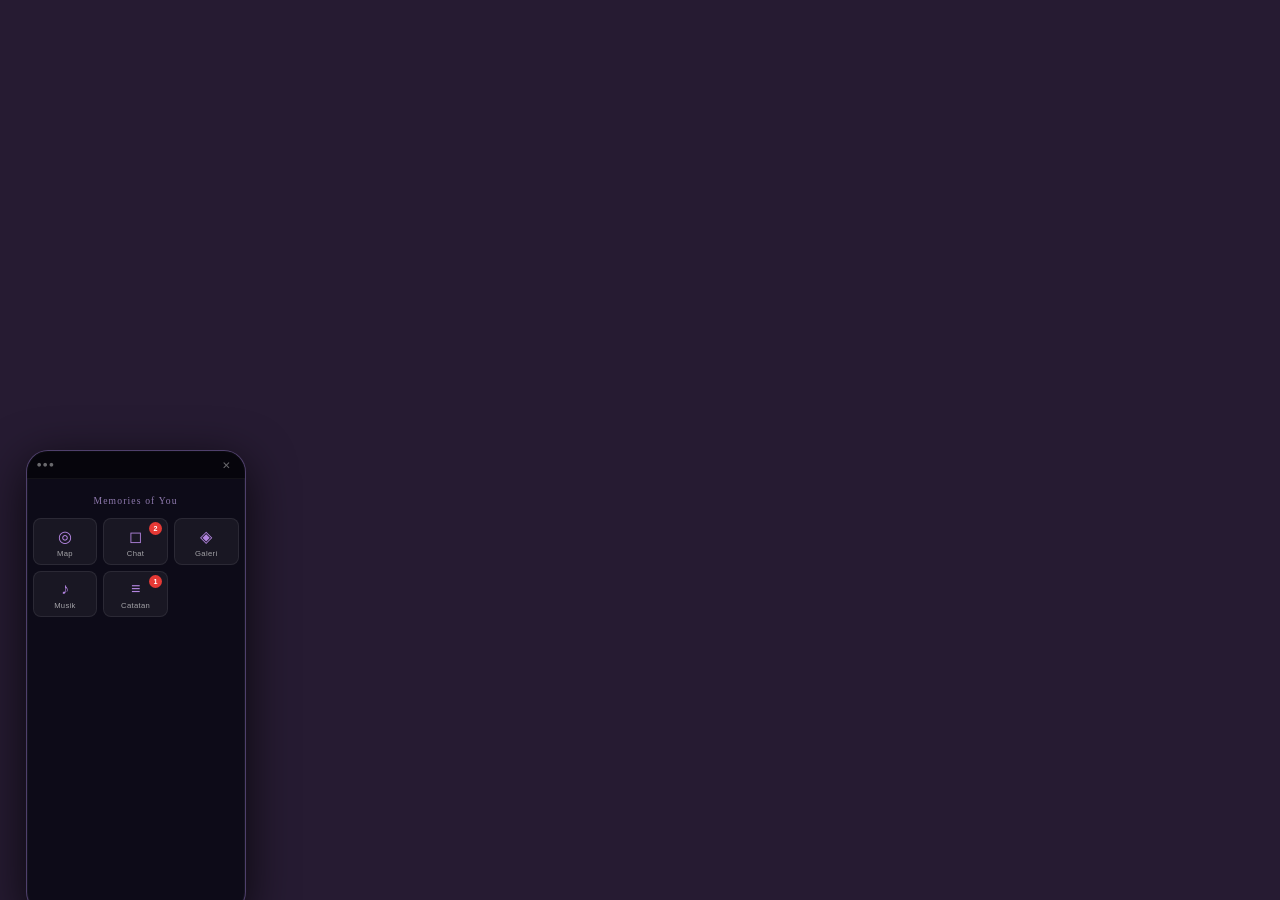
Test: SmartphoneFrame › returns to home when back button is pressed
Click the button labelled "◎ Map": {"x": 65, "y": 542} [33,518,97,565]
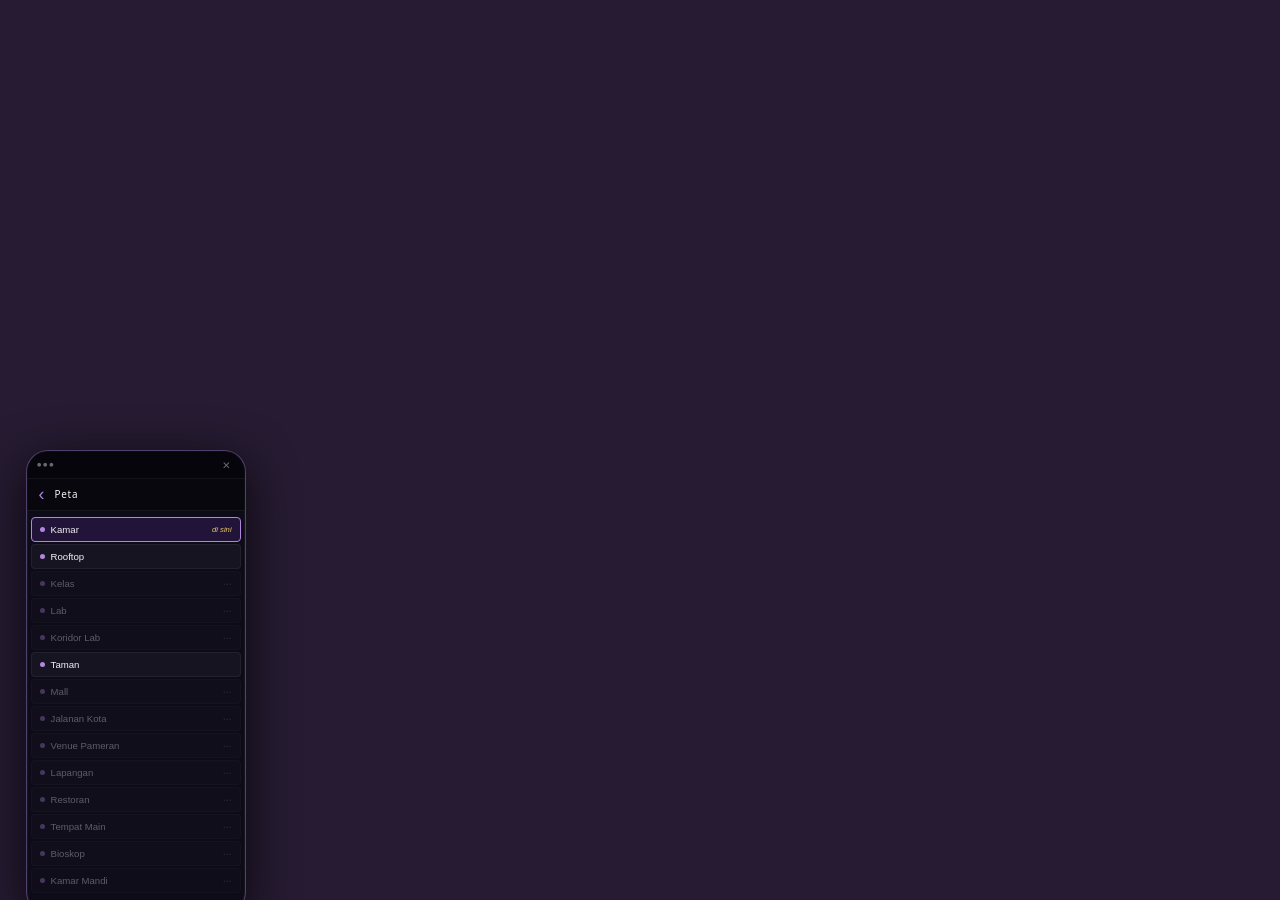
expect the text "Peta" is shown: met, box [54,487,78,502]
Click the button named "Kembali": {"x": 42, "y": 494} [35,486,48,503]
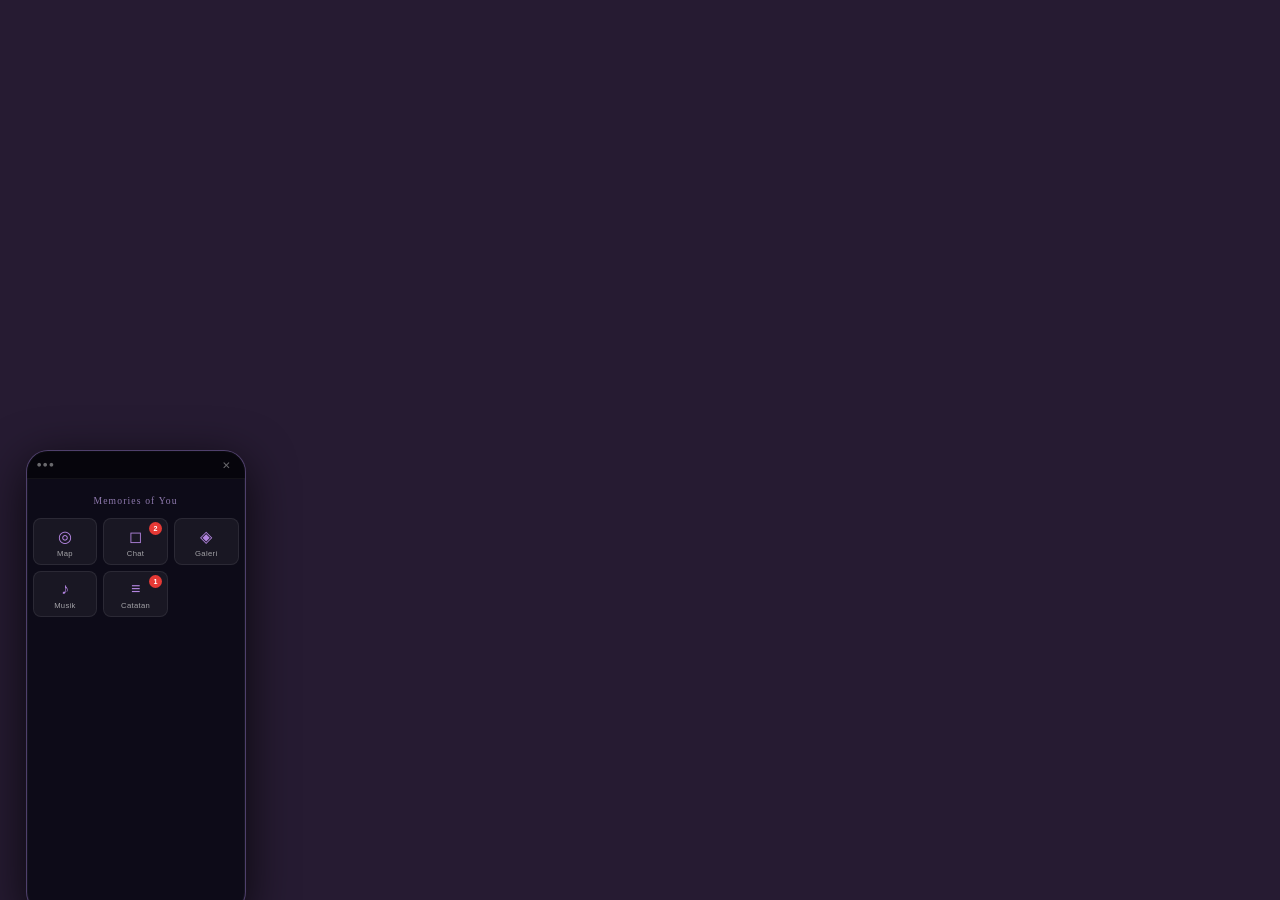
expect the button labelled "◎ Map" is shown: met, box [33,518,97,565]
